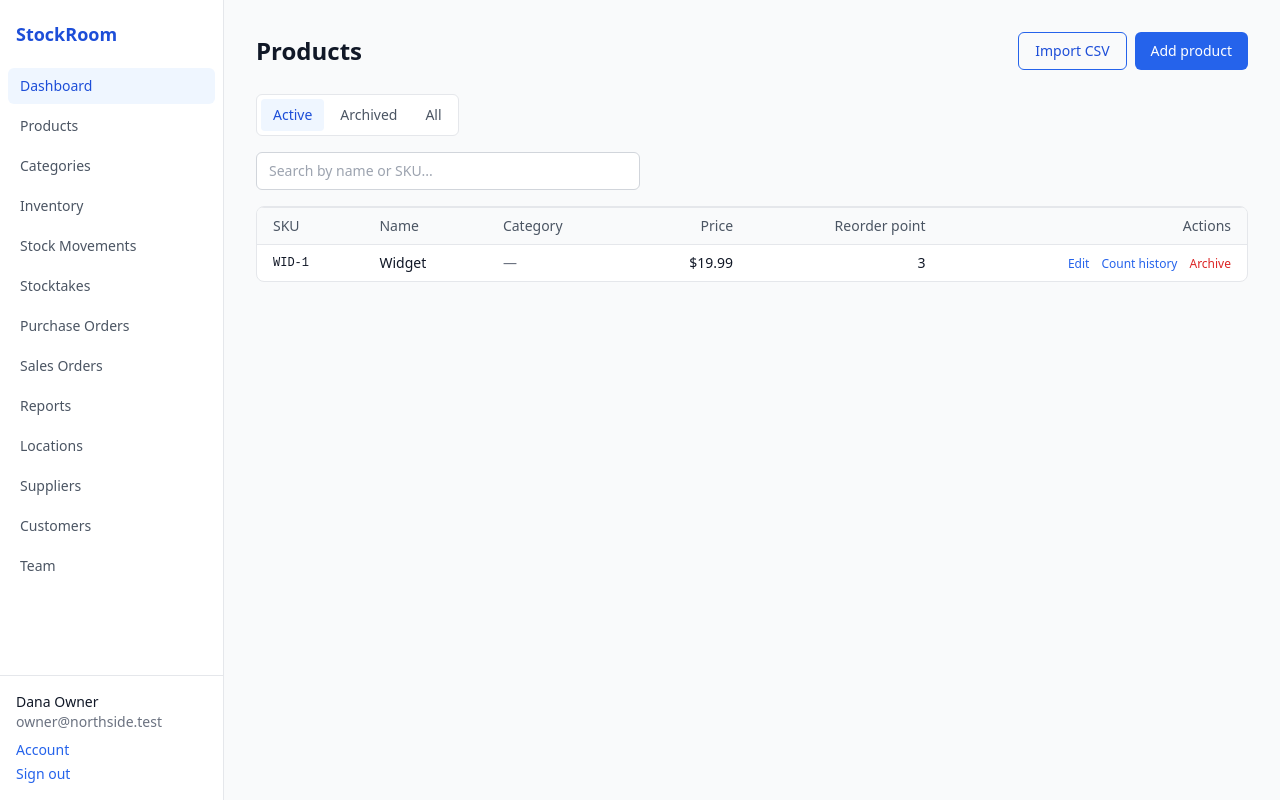
it: ProductsPage archive/restore › names the product in the confirmation before archiving anything
Expected: the text "Widget" is shown, top-left (364, 244), bottom-right (487, 281)
Click the button "Archive": (1210, 264) top-left (1190, 256), bottom-right (1231, 272)
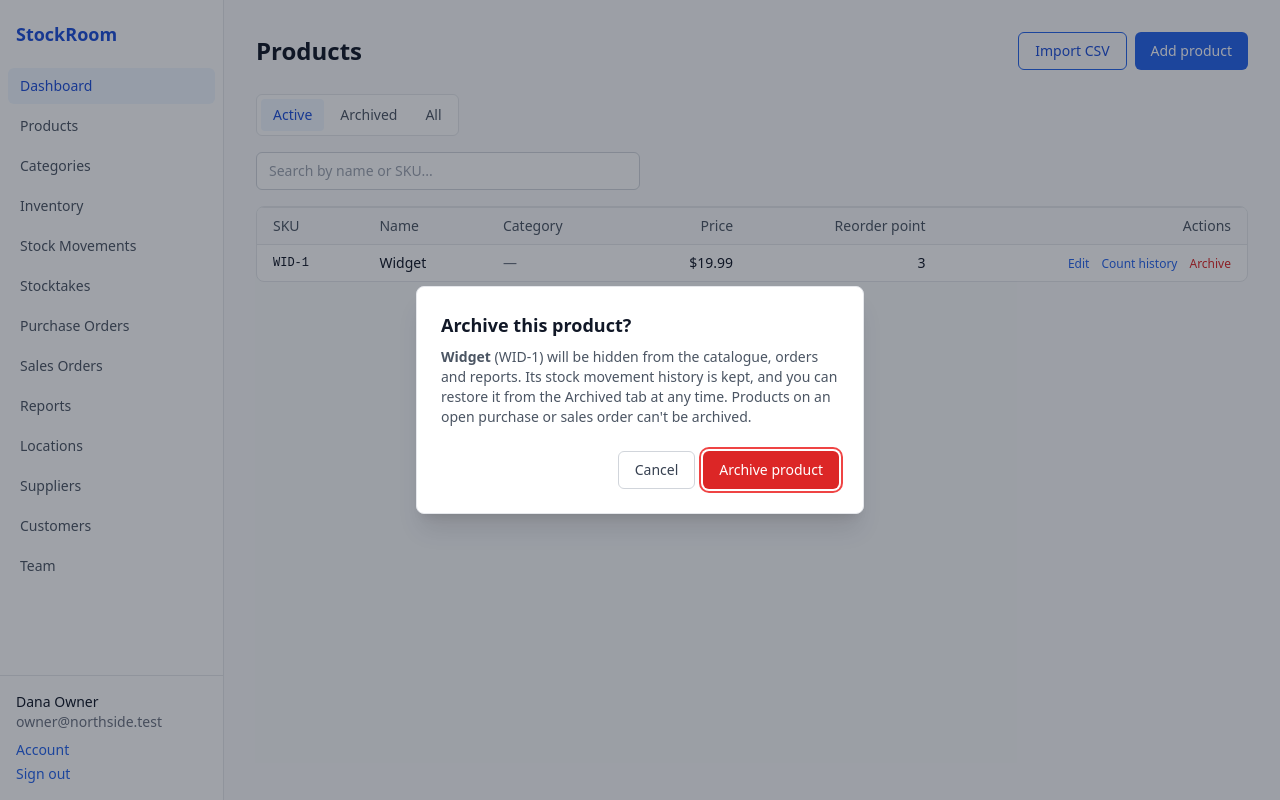
Now the text "Widget" is shown, box top-left (441, 347), bottom-right (491, 366)
